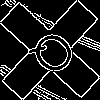Q: (25, 25, 87, 86)
